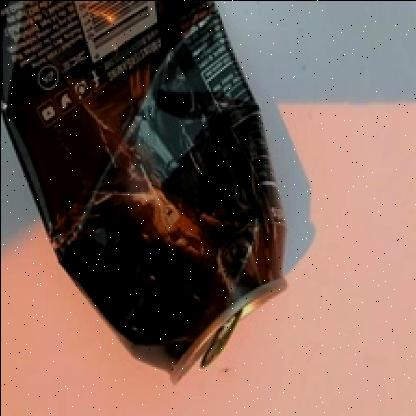Can: (1, 0, 287, 382)
